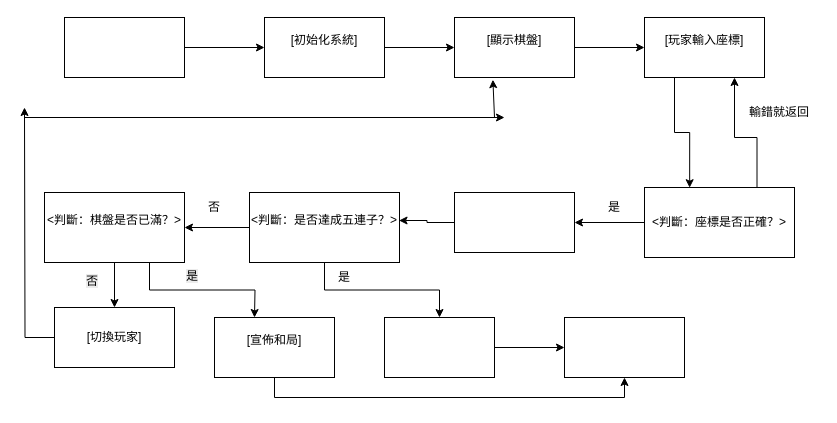
Image size: 837x423. Some labels were removed from this diagram. Here are the shapes that lost their labels. From the top down, the box of each, then its label:
(64, 16, 184, 78): [開始]
(454, 192, 574, 252): [更新棋盤]
(384, 316, 494, 378): [宣佈贏家]
(564, 316, 684, 378): 結束
